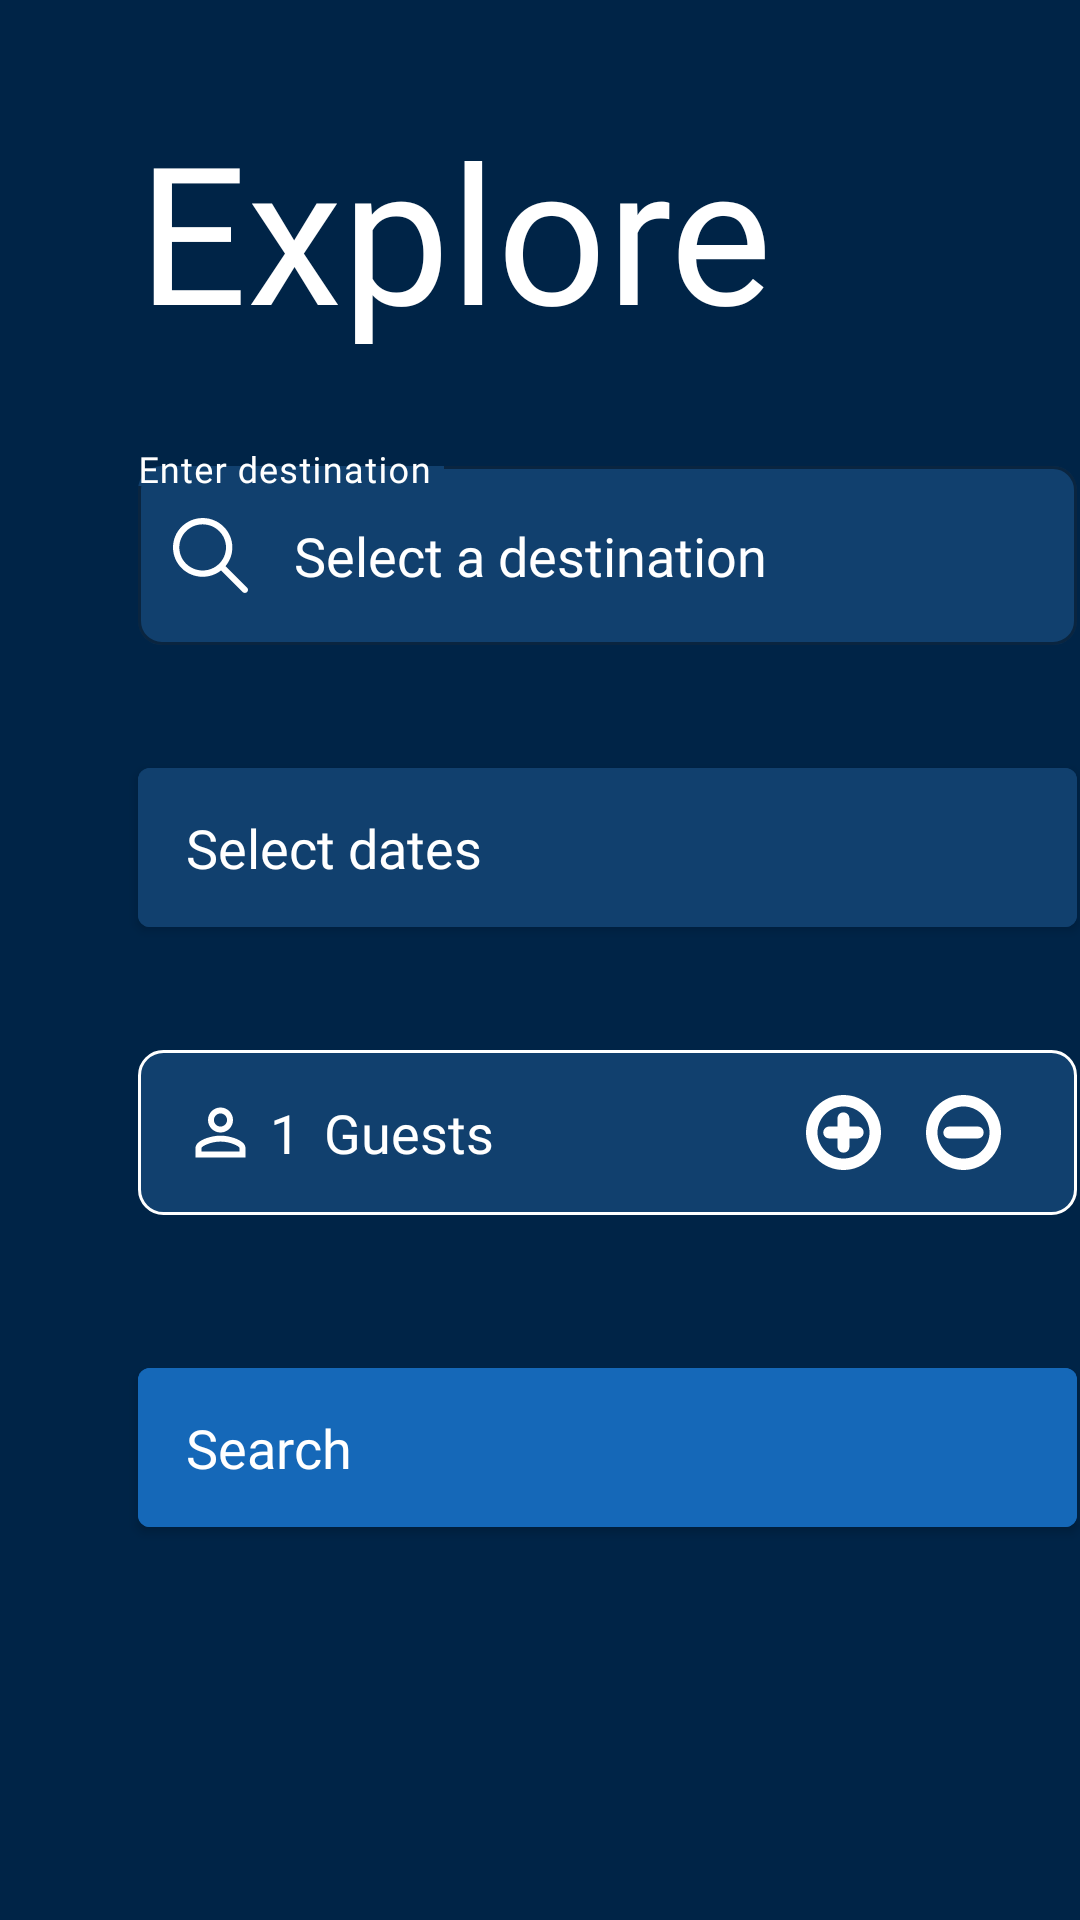

Where icons sit on this 1080 x 1920 app screen, as (left=x1, top=y1, right=x2, bottom=y2):
Add Guest: (left=806, top=1095, right=881, bottom=1170)
Remove Guest: (left=926, top=1095, right=1001, bottom=1170)
